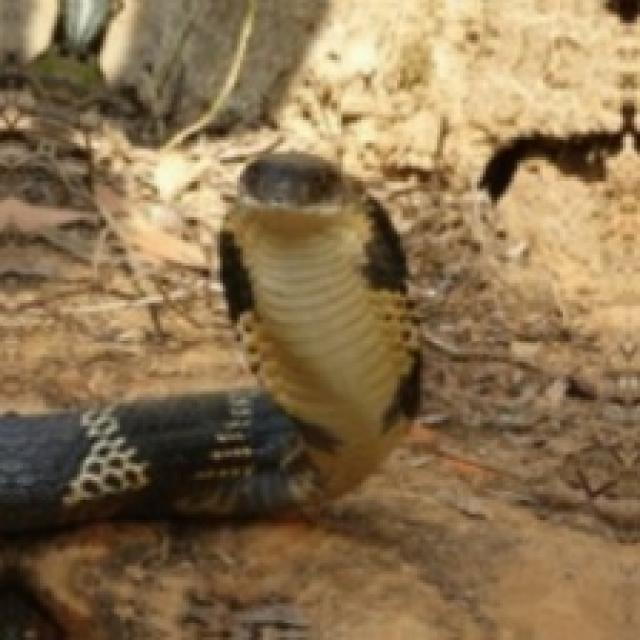king cobra: (0, 154, 417, 531), (63, 154, 417, 517), (0, 523, 214, 637), (157, 566, 314, 637)
